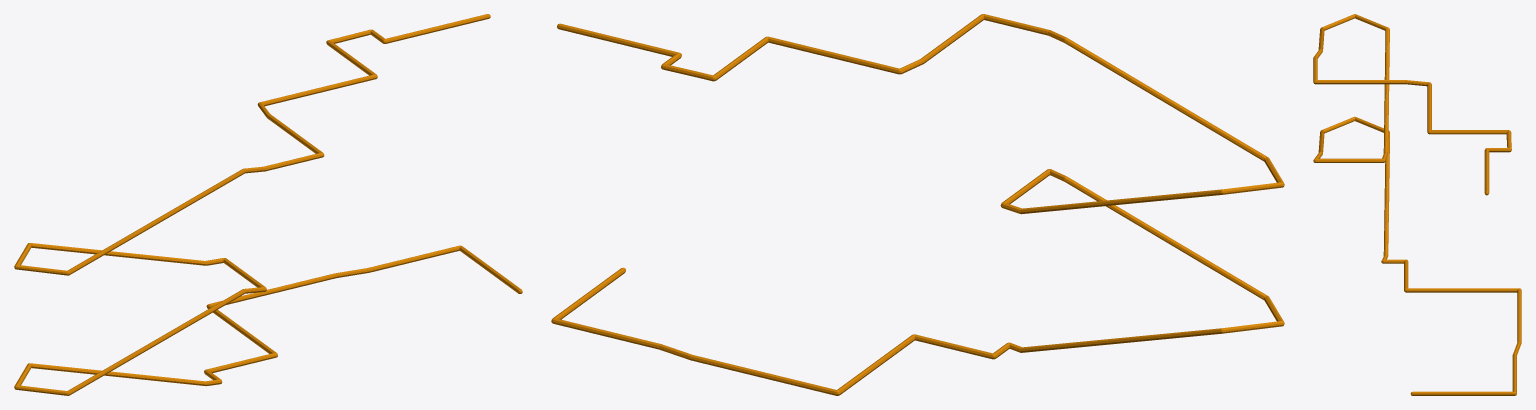
The picture shows the model from 3 angles, left to right: view 1: azimuth 30°, elevation 25°; view 2: azimuth 150°, elevation 25°; view 3: azimuth 270°, elevation 25°; orthographic projection. The views are drawn at different scales.
Size of the model in its own units: 2406 by 1020 by 920.
